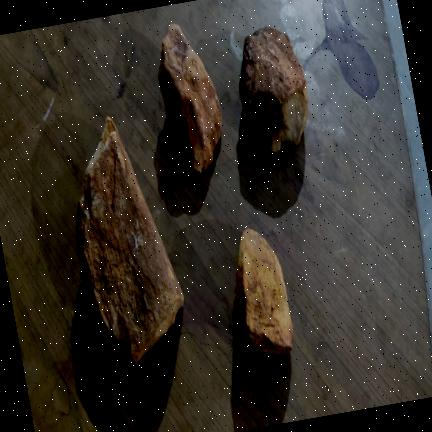Rocks: (77, 118, 183, 363), (158, 24, 222, 172), (240, 27, 308, 152), (234, 229, 293, 353)
